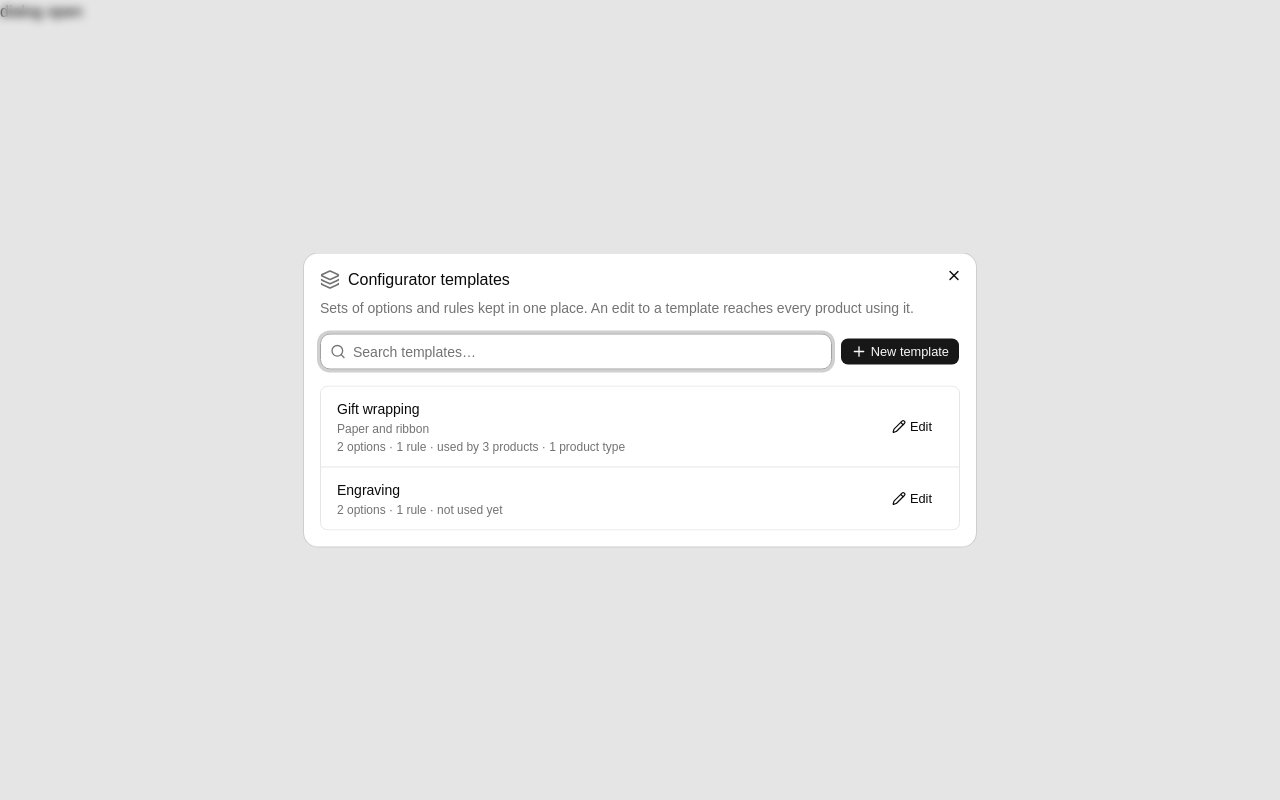
Test: TemplatesDialog › asks for a name before creating anything
Click the button "New template".
click(900, 352)  # box [840, 338, 960, 366]
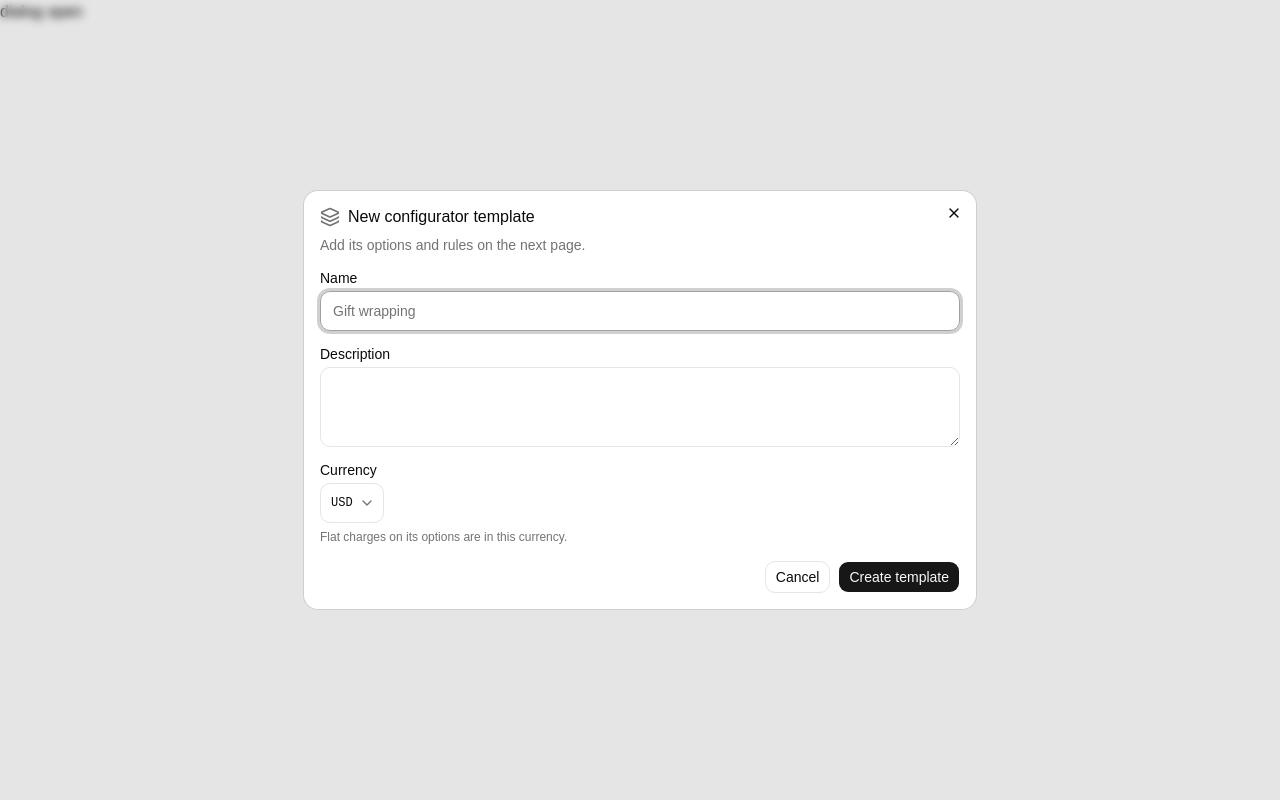
Click the button "Create template".
click(899, 577)  # box [838, 561, 960, 593]
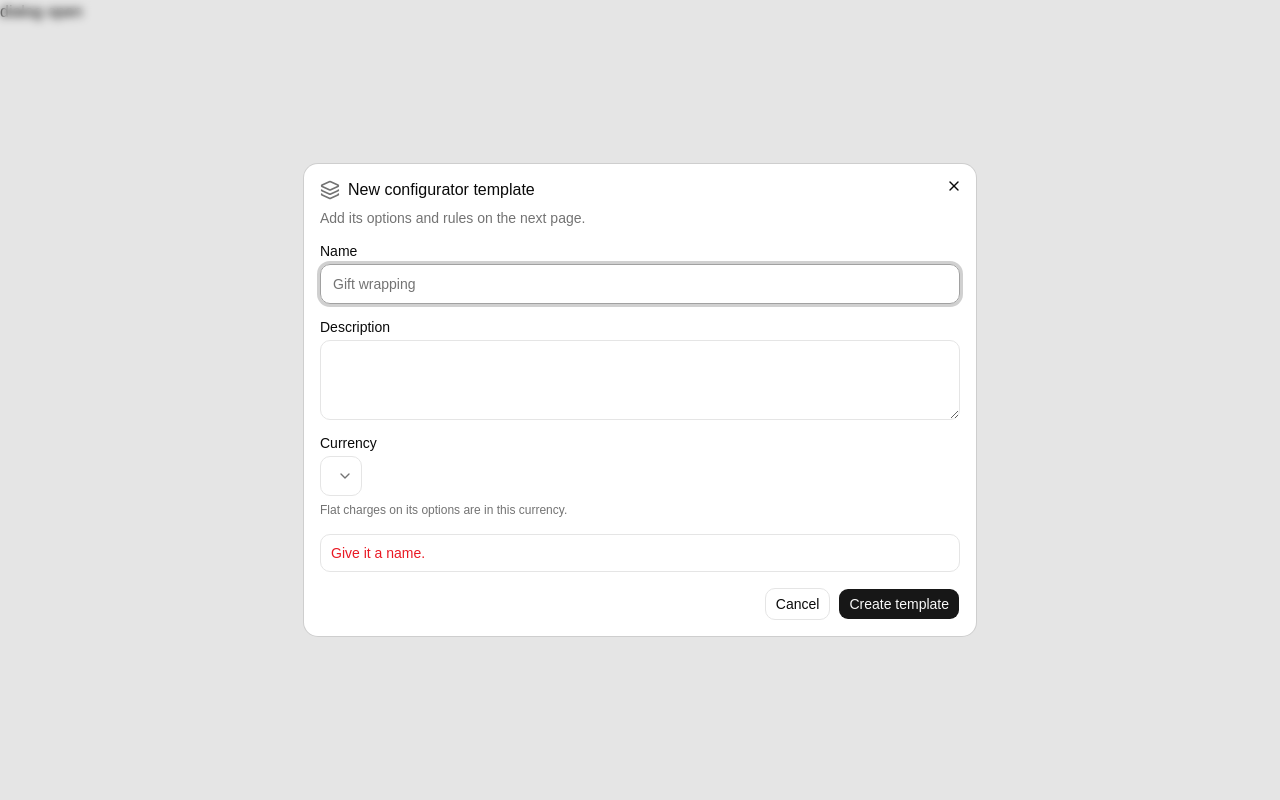
Check: the text "Give it a name." is shown, box [331, 545, 425, 561]
